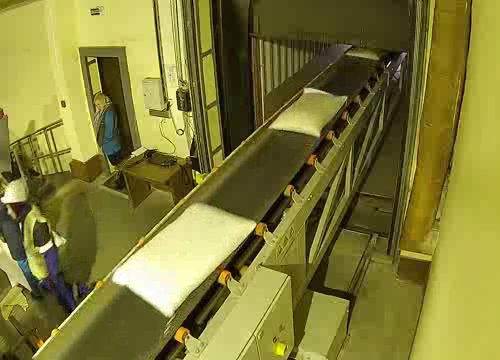bag: (112, 202, 259, 317), (268, 87, 349, 138), (345, 46, 388, 61)
